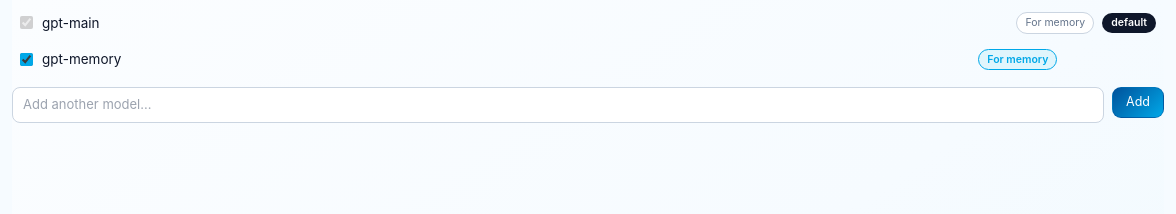
Test case: ModelChecklist interaction states › rolls back an optimistic purpose update when saving fails
Click the button with aria-label "gpt-memory · For memory": (1018,59) top-left (978, 48), bottom-right (1057, 70)
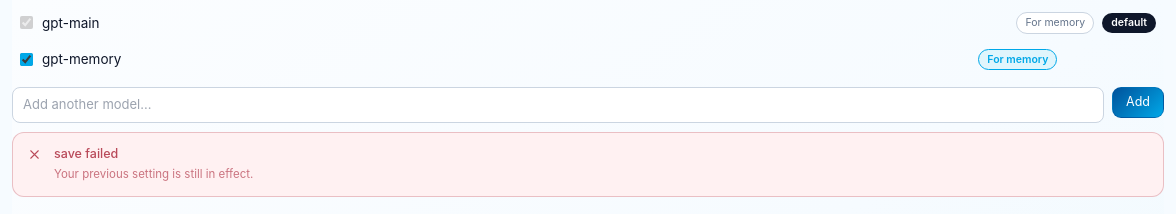
Now the text "save failed" is shown, box top-left (54, 146), bottom-right (118, 160)
